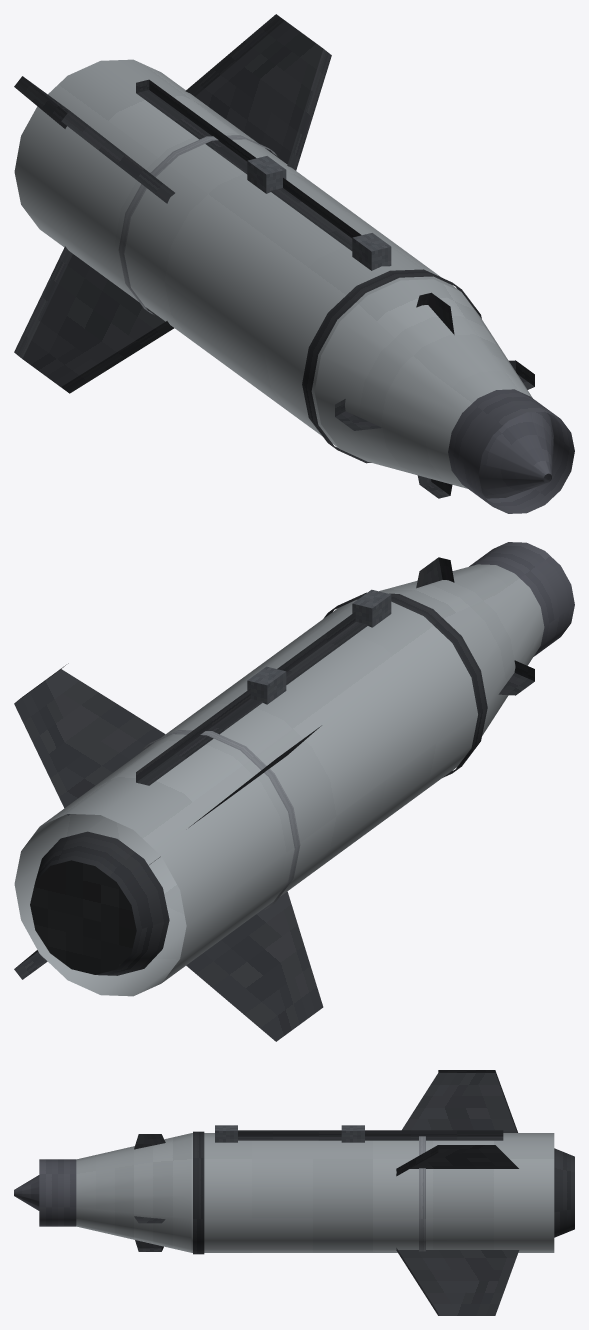
The model's file is missile_tactical_kinetic.glb.
3 views of the same model, one above another, from view 1: azimuth 30°, elevation 25°; view 2: azimuth 150°, elevation 25°; view 3: azimuth 270°, elevation 25° (orthographic). The views are drawn at different scales.
Visible parts, largest first — view 1: body; view 2: body; view 3: body.
Part boxes in pixels (x1,y1,x2,y2): body: (14,14,574,513); body: (14,542,574,1041); body: (14,1070,574,1315).
Size of the model in its own units: 0.8174 by 0.8174 by 2.43.
Materials: 1 (1 with a texture image).
